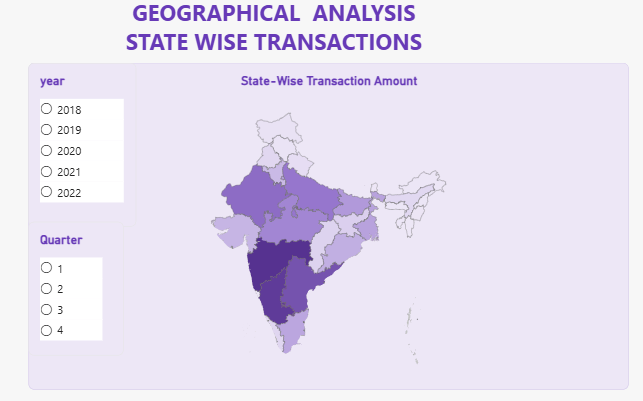

The dashboard page shown, as its layout file describes it:
{"tool":"powerbi","page":{"name":"Geographical Analysis","canvas":[1920,1080],"ordinal":3},"visuals":[{"type":"shapeMap","title":"State-Wise Transaction Amount","fields":{"Category":["aggregated_transaction.State"],"Value":["Sum(aggregated_transaction.Transaction Amount)"]},"box":[125.8,116.5,869.1,473.2],"z":0},{"type":"textbox","box":[254.6,19.6,453.6,119.6],"z":1},{"type":"listSlicer","fields":{"Values":["Dimyear.year"]},"box":[126.7,115.8,155.6,237.1],"z":2},{"type":"listSlicer","fields":{"Values":["Dimquarter.Quarter"]},"box":[126.7,345.6,137.5,193.6],"z":3}]}

Visuals, with their boxes on the page's 1920x1080 design canvas (x1, y1, x2, y2). These are canvas units, not pixel positions in the 643x401 screenshot, which may show the page scaled, cropped or inside an application window:
"State-Wise Transaction Amount" shapeMap: bbox=[126, 116, 995, 590]
textbox: bbox=[255, 20, 708, 139]
listSlicer - Dimyear.year: bbox=[127, 116, 282, 353]
listSlicer - Dimquarter.Quarter: bbox=[127, 346, 264, 539]
